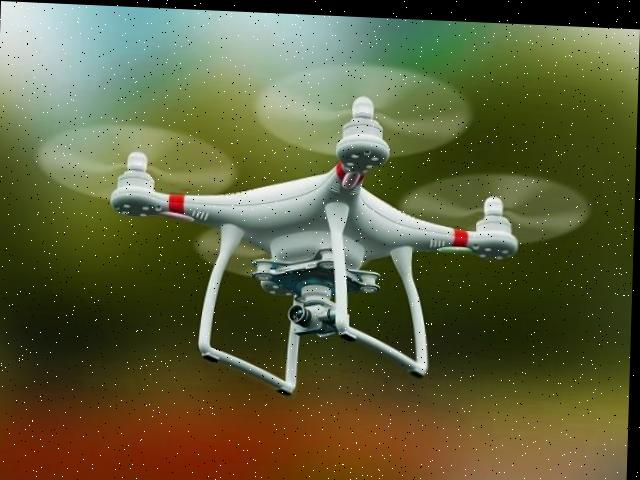drone: (0, 0, 640, 450)
